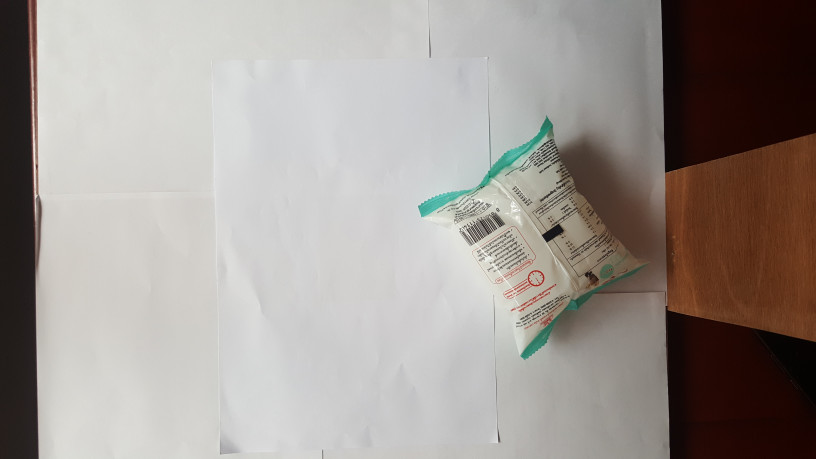farmhouse-sweetsandwich-chocolate: (417, 113, 642, 363)
